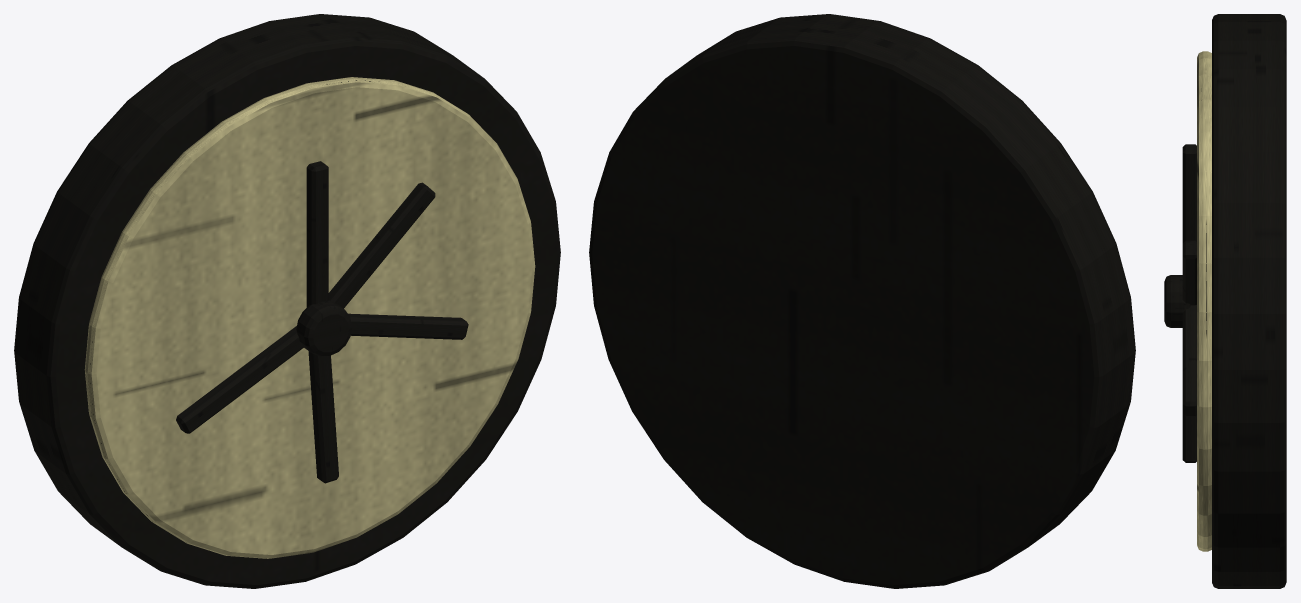
Rendered from wrong-clock.glb.
The picture shows the model from 3 angles, left to right: view 1: azimuth 30°, elevation 25°; view 2: azimuth 150°, elevation 25°; view 3: azimuth 270°, elevation 25°; orthographic projection. The views are drawn at different scales.
Visible parts, largest first — view 1: SM_backrooms_wrong_clock_AnomalyPalePlastic, SM_backrooms_wrong_clock_AnomalyDarkMetal; view 2: SM_backrooms_wrong_clock_AnomalyDarkMetal; view 3: SM_backrooms_wrong_clock_AnomalyDarkMetal, SM_backrooms_wrong_clock_AnomalyPalePlastic.
Part boxes in pixels (box(x1,y1,x2,y2)): SM_backrooms_wrong_clock_AnomalyPalePlastic: box(84, 77, 535, 558); SM_backrooms_wrong_clock_AnomalyDarkMetal: box(14, 14, 560, 588); SM_backrooms_wrong_clock_AnomalyDarkMetal: box(589, 14, 1135, 588); SM_backrooms_wrong_clock_AnomalyDarkMetal: box(1164, 14, 1286, 588); SM_backrooms_wrong_clock_AnomalyPalePlastic: box(1197, 51, 1211, 551).
Bounding box in the file's own units: 0.54 × 0.54 × 0.1145.
2 materials, 2 textured.
